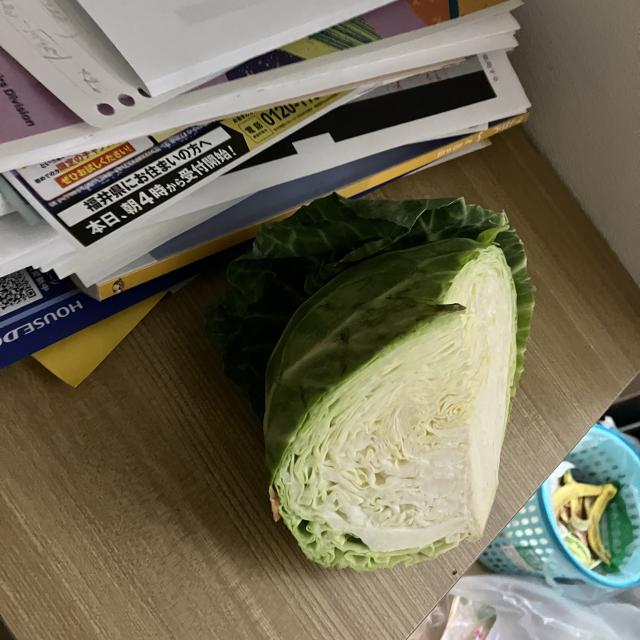haft-cabbage: (222, 188, 537, 578)
